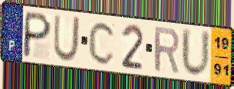2: (120, 23, 144, 72)
C: (88, 20, 117, 67)
P: (20, 10, 53, 60)
R: (153, 25, 181, 76)
U: (180, 26, 212, 80), (51, 14, 81, 64)
